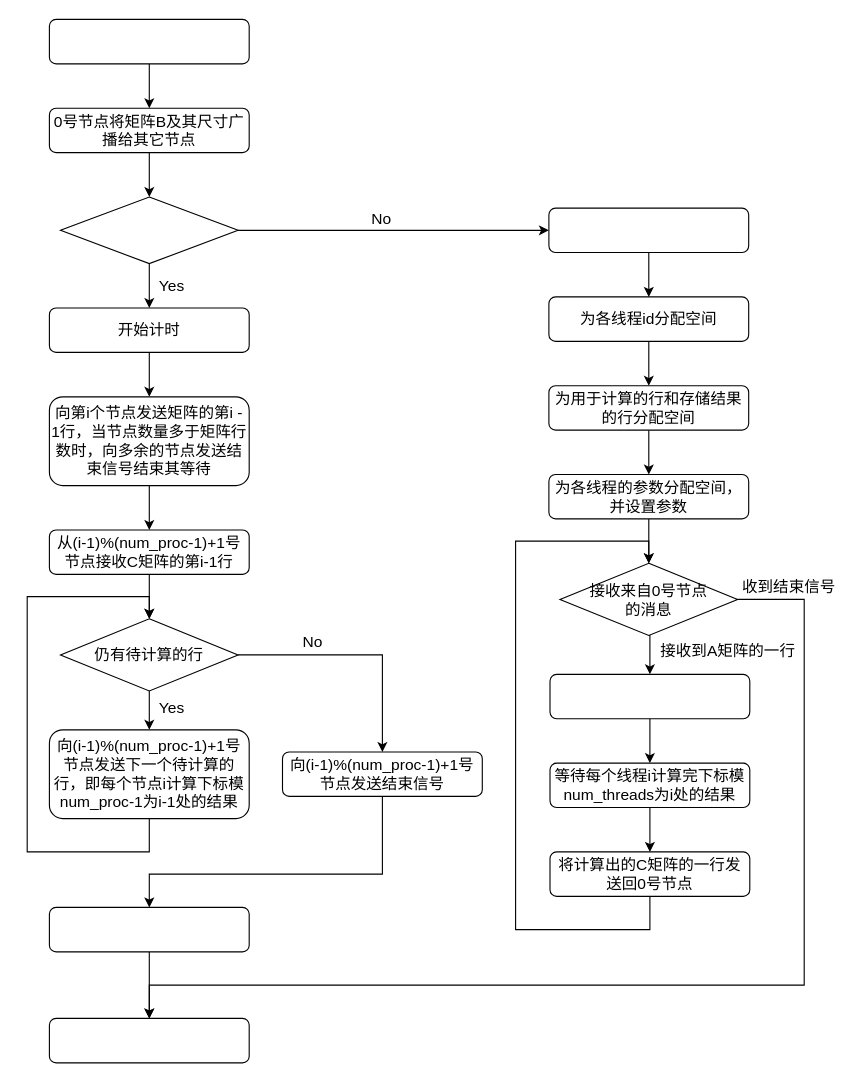
Image size: 855x1082. Some labels were removed from this diagram. Here are the shapes that lost their labels. From the top down, the box of each, then its label:
(48, 18, 249, 64): 0号节点读矩阵A和B
(59, 196, 238, 264): 当前节点是0号节点
(548, 207, 749, 253): 根据核心数设置线程数
(549, 673, 750, 719): 根据已确定的线程数创建线程并开始执行
(48, 906, 249, 952): 结束计时，输出运行时间及计算结果
(48, 1017, 249, 1063): 结束 MPI 环境并退出程序
